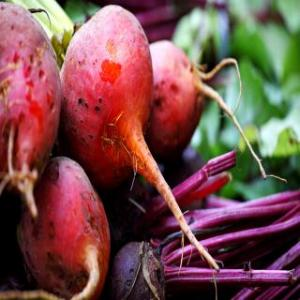beet: (60, 4, 152, 180), (16, 156, 110, 294), (0, 0, 60, 200), (146, 39, 204, 157)
